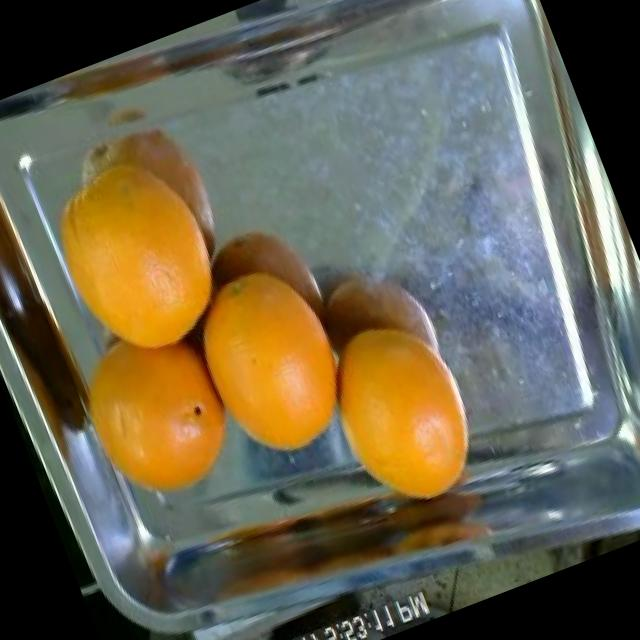Fruit: (283, 279, 513, 545), (166, 246, 377, 497)
